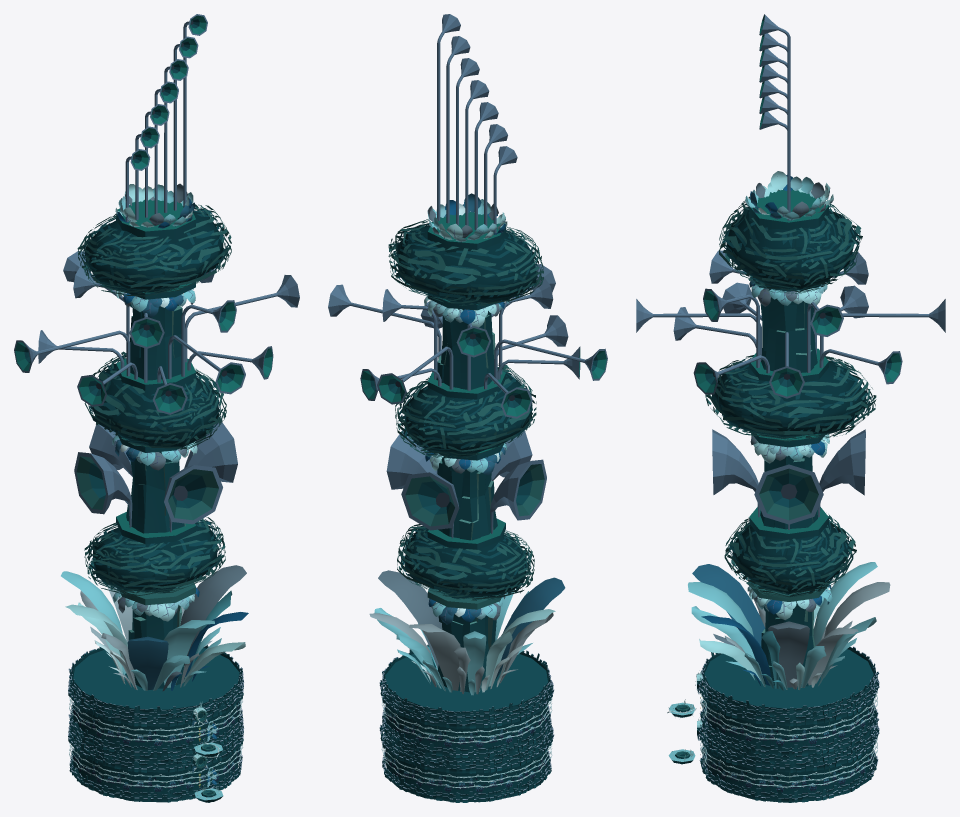
Rendered from Instrumento_Inverno.fbx.
The picture shows the model from 3 angles, left to right: view 1: azimuth 30°, elevation 25°; view 2: azimuth 150°, elevation 25°; view 3: azimuth 270°, elevation 25°; orthographic projection. The views are drawn at different scales.
Parts seen in each view (by area): view 1: InstrumentoTorre_Inverno, InstrumentoPauta (×2); view 2: InstrumentoTorre_Inverno, InstrumentoPauta (×2); view 3: InstrumentoTorre_Inverno, InstrumentoPauta (×2).
Boxes of the visible parts, x1,y1,x2,y2 form: InstrumentoTorre_Inverno: (14,14,299,802); InstrumentoPauta (×2): (69,696,243,788); InstrumentoTorre_Inverno: (328,14,607,802); InstrumentoPauta (×2): (381,696,552,788); InstrumentoTorre_Inverno: (636,14,945,802); InstrumentoPauta (×2): (700,691,877,788).
Size of the model in its own units: 5509 by 14791 by 5418.
